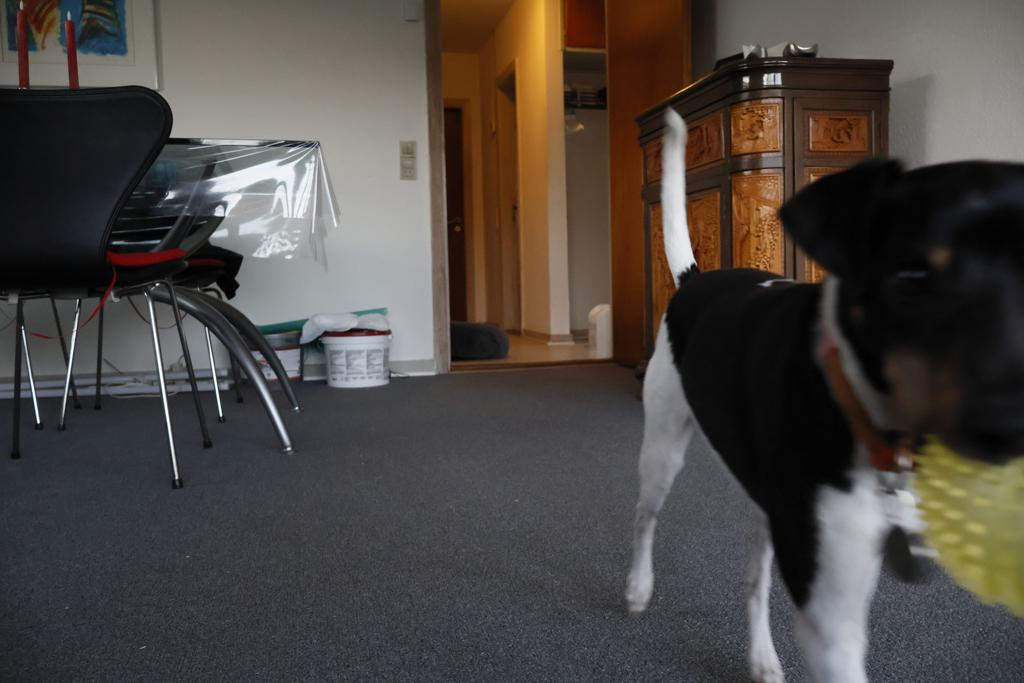Dog: (614, 96, 1024, 683)
